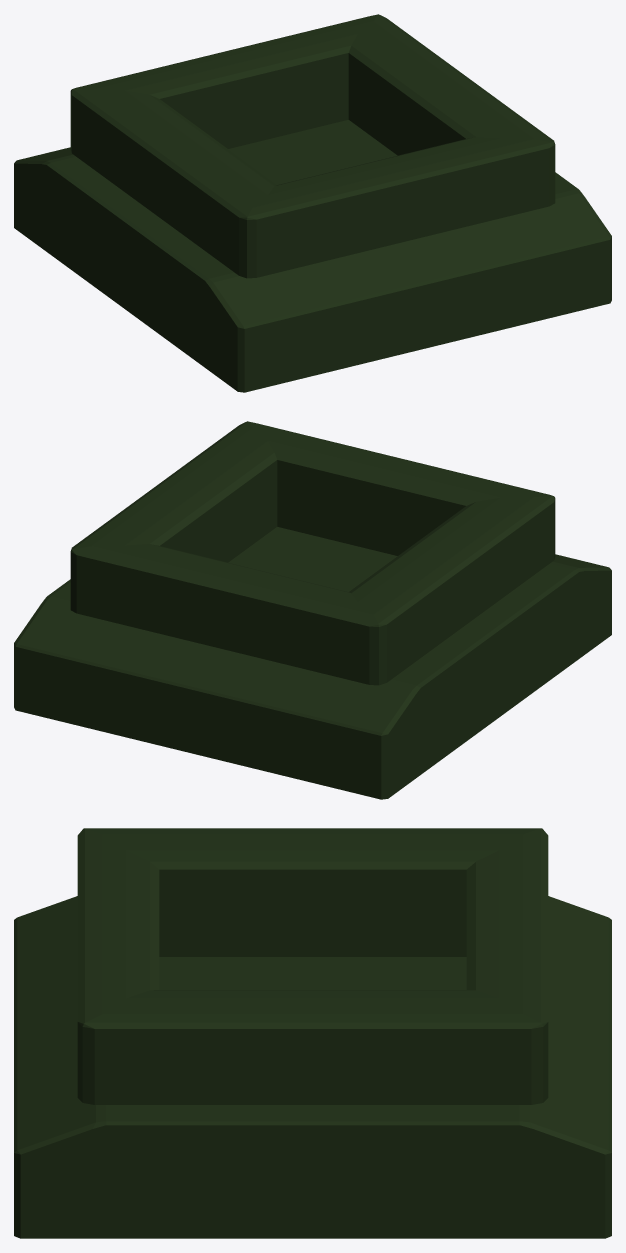
File: M6BO_Prullenbak_Texture.fbx
3 renders of one model, top to bottom at view 1: azimuth 30°, elevation 25°; view 2: azimuth 150°, elevation 25°; view 3: azimuth 270°, elevation 25°, orthographic. The views are drawn at different scales.
Visible parts, largest first — view 1: Prulllenbak; view 2: Prulllenbak; view 3: Prulllenbak.
Boxes of the visible parts, left/top/right/bottom form: Prulllenbak: left=14, top=14, right=611, bottom=392; Prulllenbak: left=14, top=421, right=611, bottom=799; Prulllenbak: left=14, top=828, right=611, bottom=1238.
Bounding box in the file's own units: 166 × 63.79 × 176.
